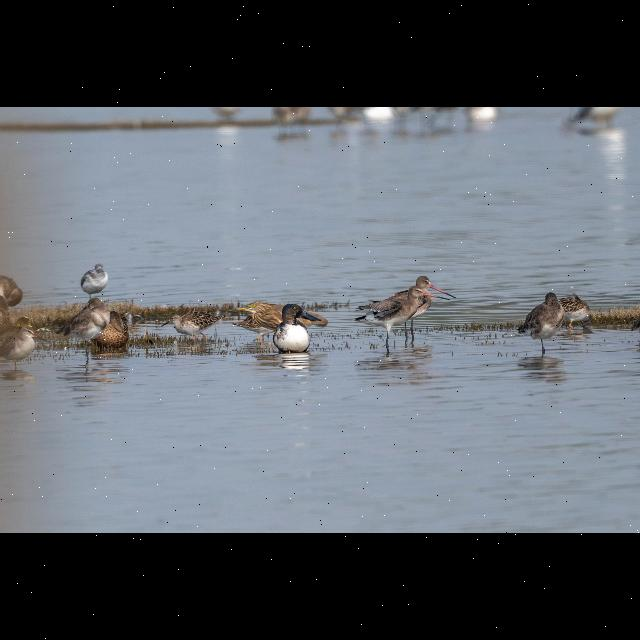heron: (354, 283, 444, 351), (53, 296, 117, 370), (512, 290, 564, 358), (262, 300, 320, 352), (0, 311, 46, 369)
